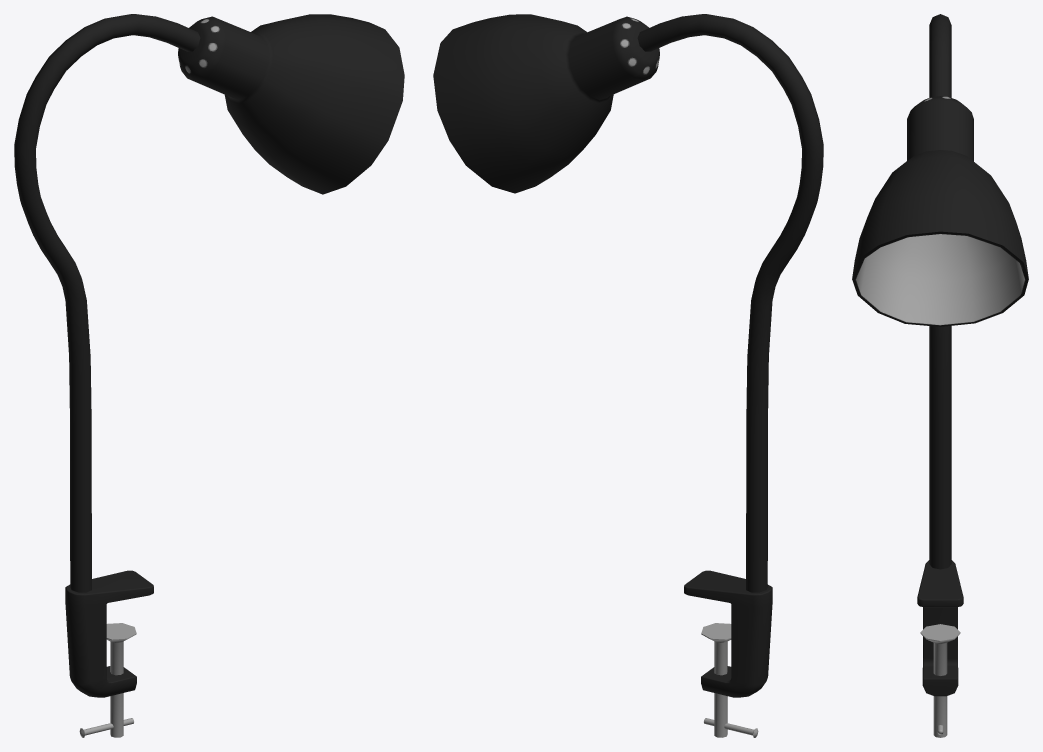
File: lamp13.glb
The picture shows the model from 3 angles, left to right: view 1: azimuth 30°, elevation 25°; view 2: azimuth 150°, elevation 25°; view 3: azimuth 270°, elevation 25°; orthographic projection.
Visible parts, largest first — view 1: LP; view 2: LP; view 3: LP.
Boxes of the visible parts, box(x1,y1,x2,y2) form: LP: box(14, 14, 404, 737); LP: box(433, 14, 823, 737); LP: box(852, 14, 1028, 737).
Size of the model in its own units: 0.3061 by 0.5683 by 0.1282.
1 material, 1 textured.
